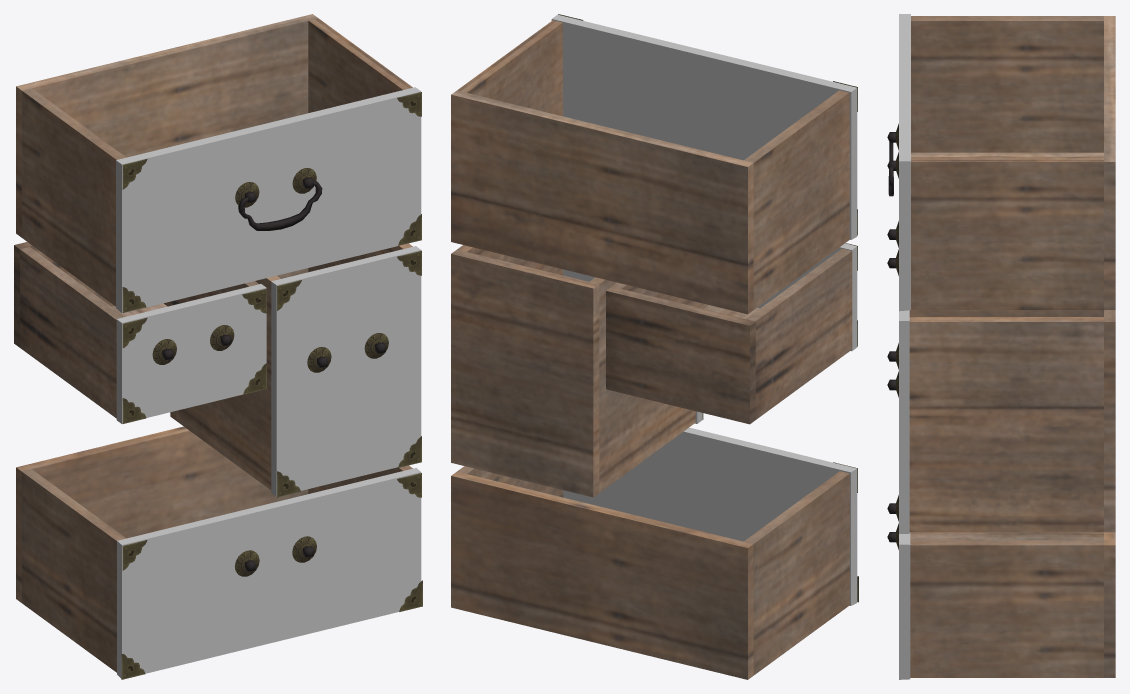
Rendered from jov_tansu02b.fbx.
3 renders of one model, left to right at view 1: azimuth 30°, elevation 25°; view 2: azimuth 150°, elevation 25°; view 3: azimuth 270°, elevation 25°, orthographic.
Visible parts, largest first — view 1: jov_tansu02b_chest1, jov_tansu02b_chest5, jov_tansu02b_chest4, jov_tansu02b_chest2, jov_tansu02b_chesthundle01; view 2: jov_tansu02b_chest1, jov_tansu02b_chest5, jov_tansu02b_chest4, jov_tansu02b_chest2; view 3: jov_tansu02b_chest1, jov_tansu02b_chest4, jov_tansu02b_chest5.
Boxes of the visible parts, x1,y1,x2,y2 form: jov_tansu02b_chest1: (16, 14, 421, 313); jov_tansu02b_chest5: (16, 426, 422, 679); jov_tansu02b_chest4: (170, 243, 421, 497); jov_tansu02b_chest2: (14, 242, 266, 423); jov_tansu02b_chesthundle01: (238, 181, 322, 230); jov_tansu02b_chest1: (451, 14, 857, 314); jov_tansu02b_chest5: (451, 427, 858, 679); jov_tansu02b_chest4: (451, 245, 703, 497); jov_tansu02b_chest2: (606, 243, 857, 424); jov_tansu02b_chest1: (887, 14, 1115, 311); jov_tansu02b_chest4: (887, 310, 1115, 533); jov_tansu02b_chest5: (887, 495, 1115, 679).
Size of what is drawn, in the model's own units: 0.747 by 1.22 by 0.487.
